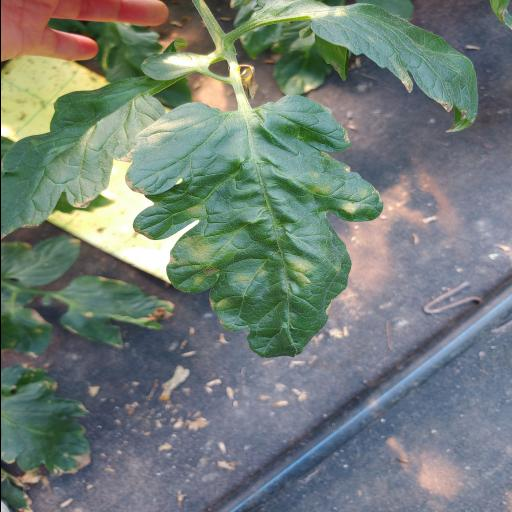Leaf Mold: (124, 95, 382, 358)
